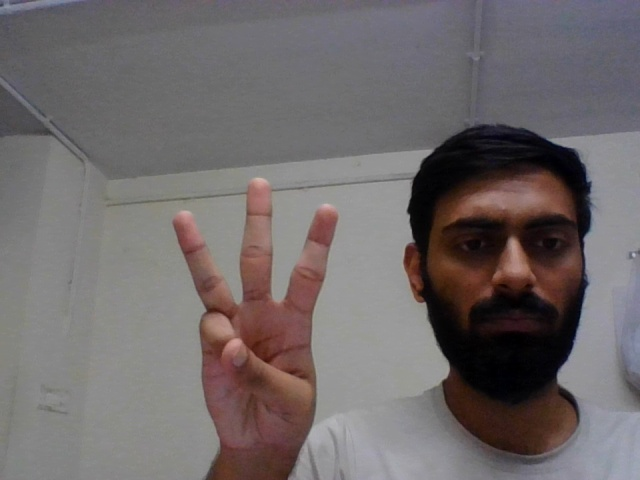W: (164, 171, 345, 475)
